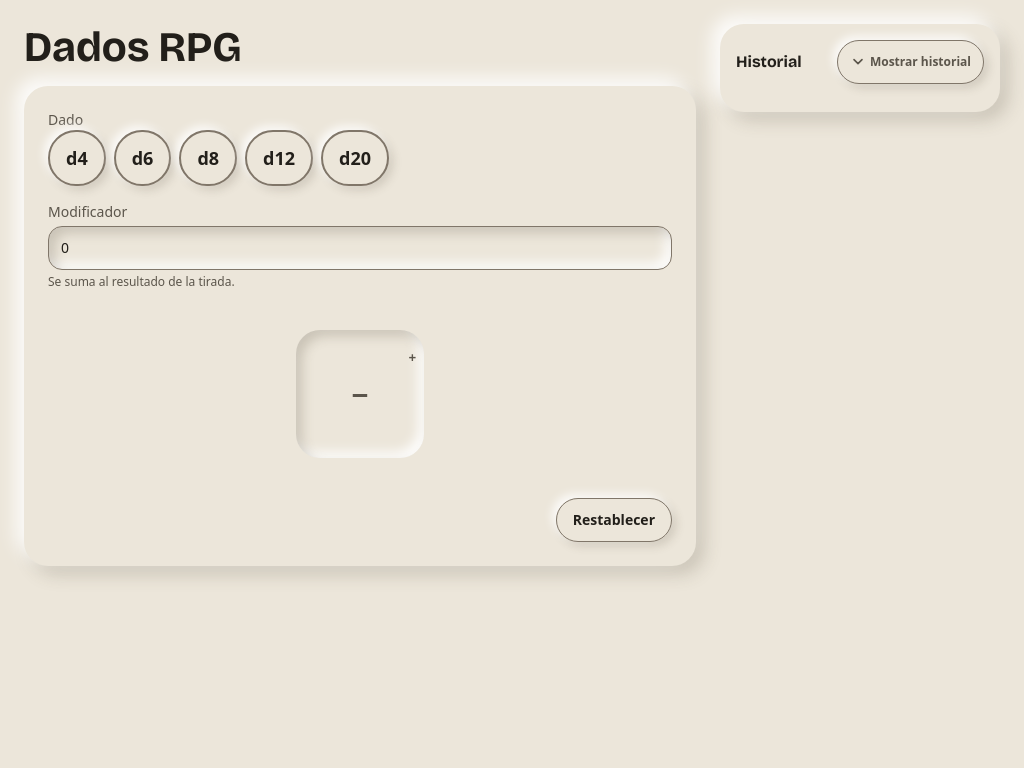
Test: DicePage — dados › con prefers-reduced-motion resuelve sin animación
Click the button "d6": (143,158) [114,130,171,186]
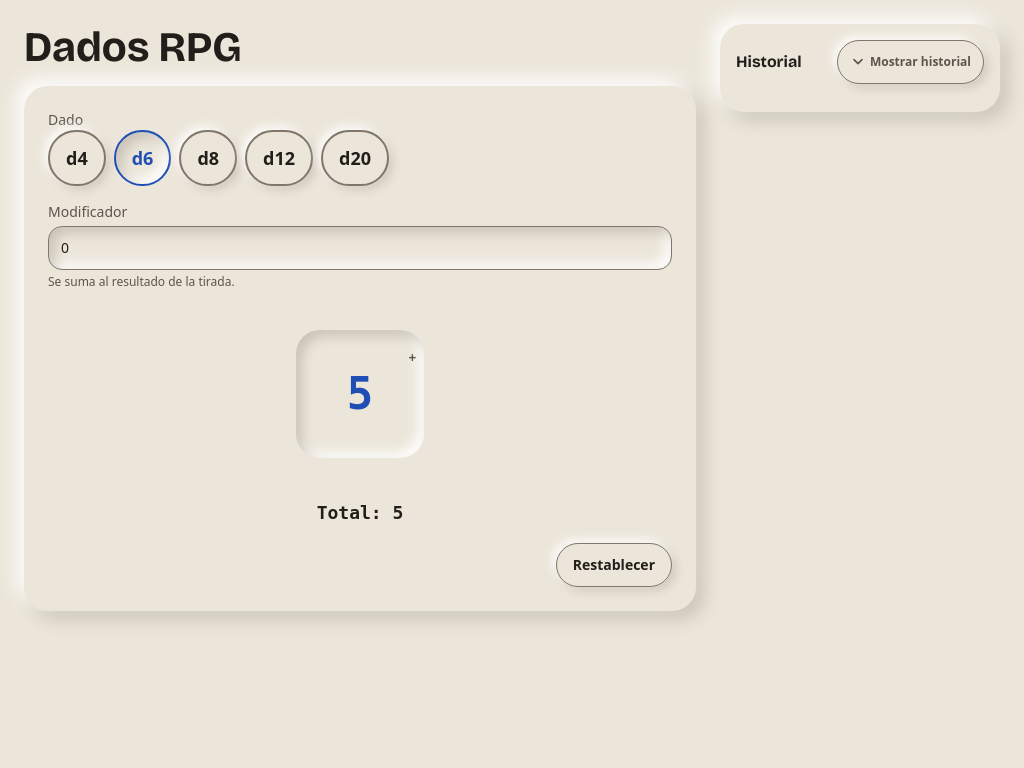
Now the text "Total: 5" is shown, box [317,502,403,523]
